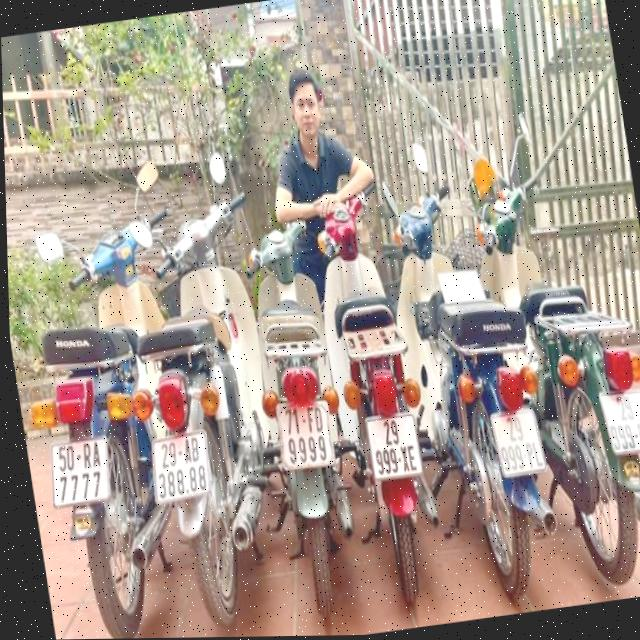motorcycle: (5, 149, 232, 640), (101, 141, 312, 639), (374, 128, 570, 616), (451, 100, 640, 602), (301, 155, 458, 618), (237, 201, 377, 637)
plate: (39, 426, 121, 520), (143, 421, 219, 513), (268, 389, 343, 478), (361, 409, 429, 488), (486, 403, 548, 481), (597, 385, 640, 463)
